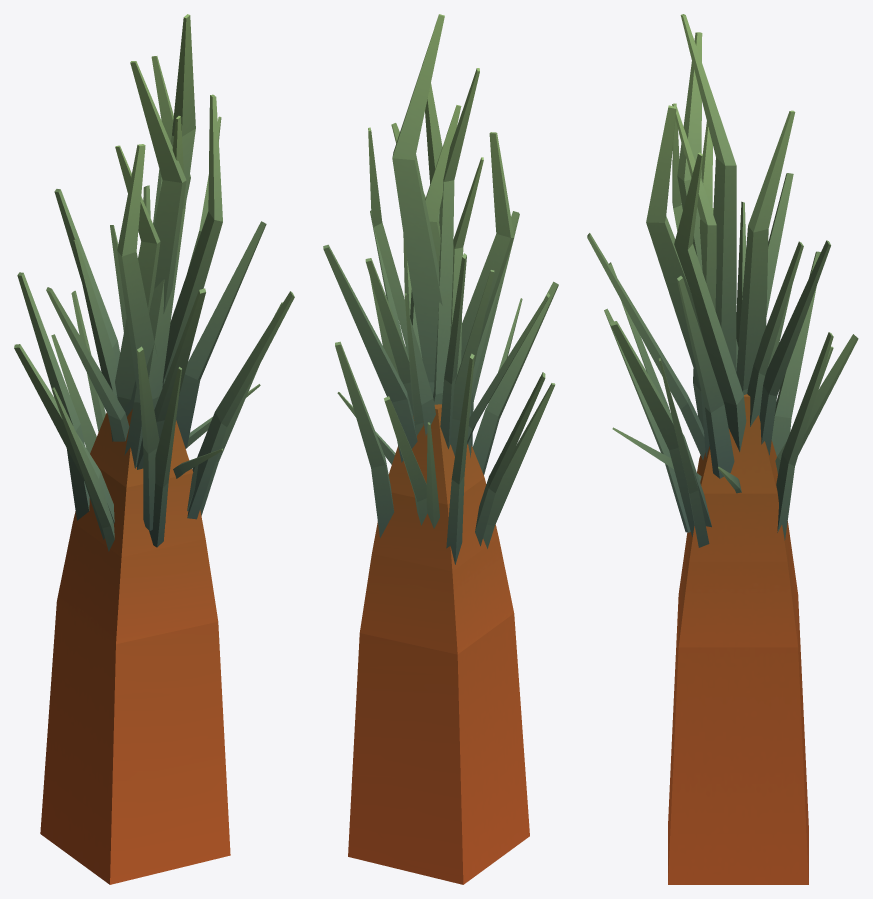
File: ItemPropsCarrotTree.fbx
3 views of the same model, side by side, from view 1: azimuth 30°, elevation 25°; view 2: azimuth 150°, elevation 25°; view 3: azimuth 270°, elevation 25° (orthographic). The views are drawn at different scales.
Visible parts, largest first — view 1: Cube.010; view 2: Cube.010; view 3: Cube.010.
Boxes of the visible parts, bbox=[...] form: Cube.010: bbox=[14, 14, 294, 884]; Cube.010: bbox=[323, 14, 558, 884]; Cube.010: bbox=[587, 14, 858, 884].
Bounding box in the file's own units: 246 × 855 × 247.
